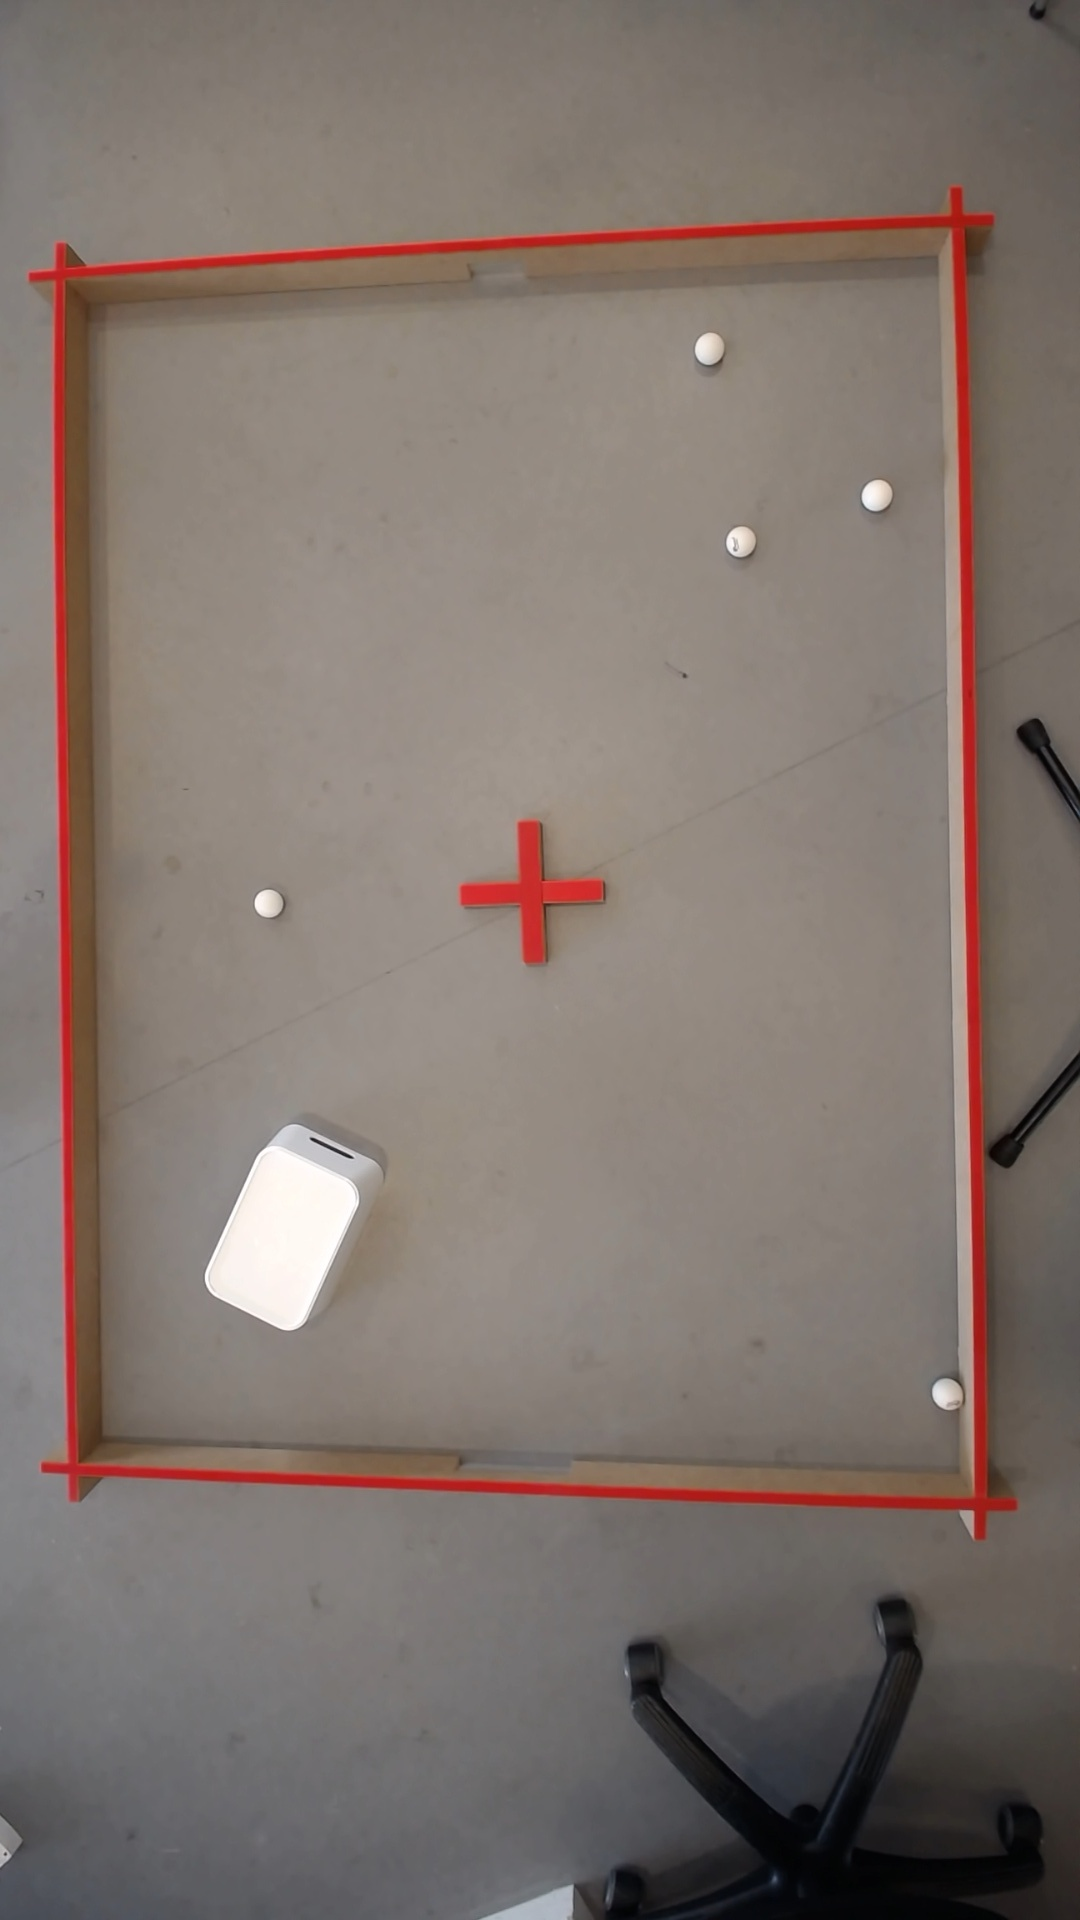balls: (856, 475, 891, 513), (688, 327, 723, 365), (720, 522, 756, 558), (253, 889, 276, 916)
car: (926, 1378, 957, 1408)
